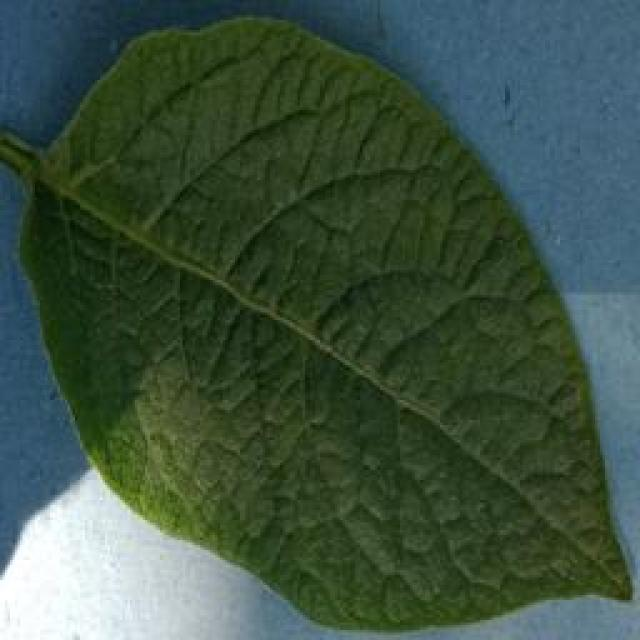Potato_Healthy: (4, 15, 621, 630)
